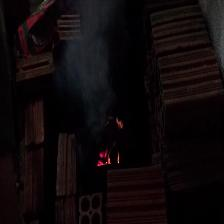fire: (101, 153, 123, 168)
smoke: (74, 45, 111, 128)
